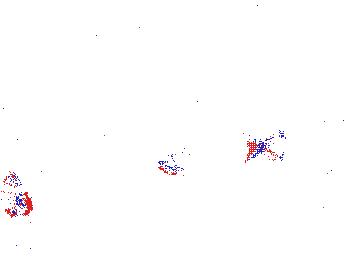red belly glassfish: (157, 157, 210, 185), (166, 133, 213, 164)
redtail glassfish: (243, 128, 291, 165)
